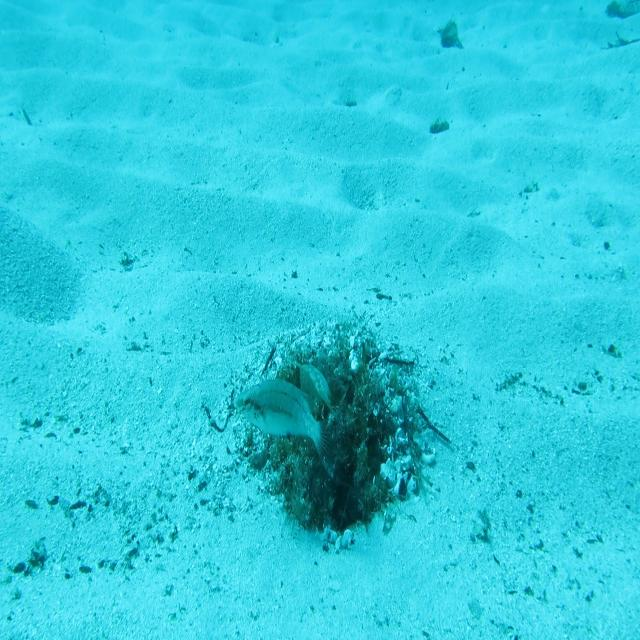NIP_IN: (292, 357, 336, 422)
female: (232, 374, 336, 480)
nest: (226, 296, 439, 550)
vegetation: (599, 0, 640, 52), (437, 19, 468, 53), (426, 115, 451, 137)
